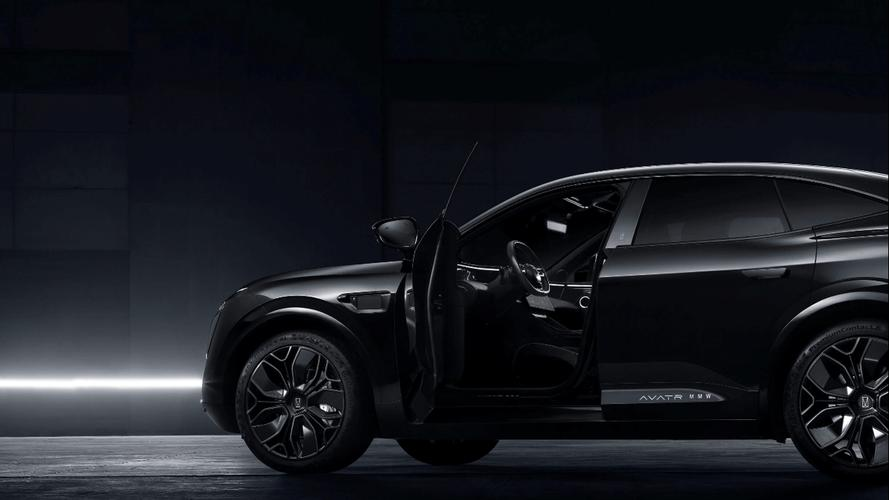汽车: (206, 139, 889, 496)
